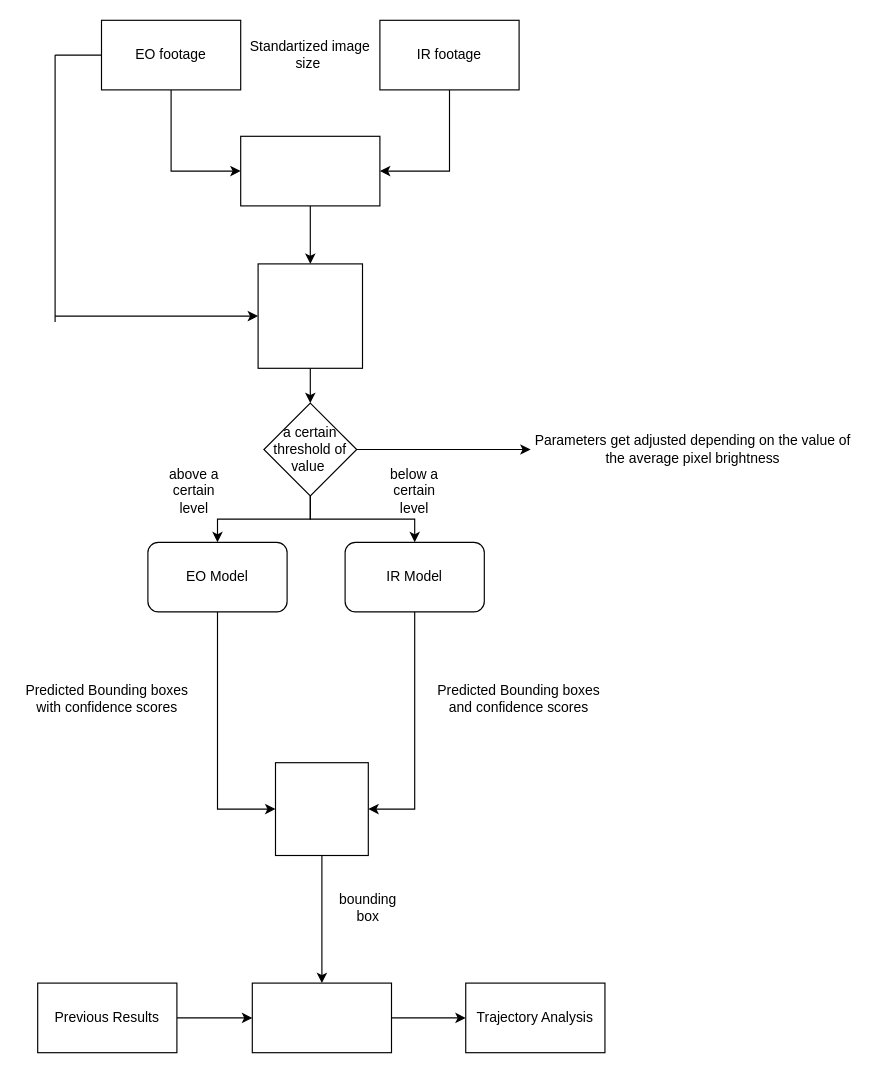
The diagram is 875 pixels wide and 1073 high, and some of its shapes have lost their labels. Here are the shapes that lost their labels. From the top down, the box of each, then its label:
(240, 135, 380, 206): Real-time footage
(257, 263, 362, 368): Mean-pixel brightness checker
(274, 762, 368, 855): Decision Logic
(251, 982, 392, 1053): Image with bounding box with confidence score
